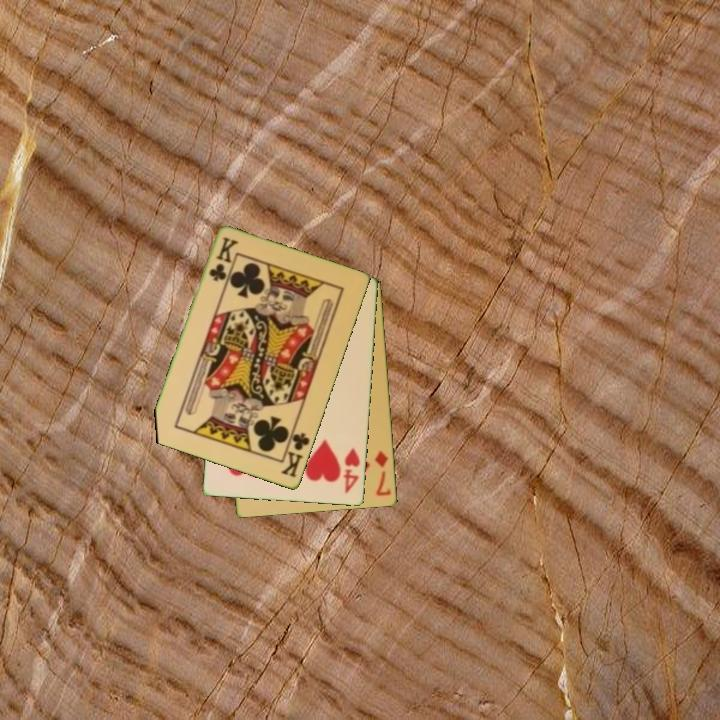4h: (340, 444, 363, 496)
7d: (372, 448, 394, 499)
Kc: (277, 424, 313, 481), (206, 234, 240, 285)
